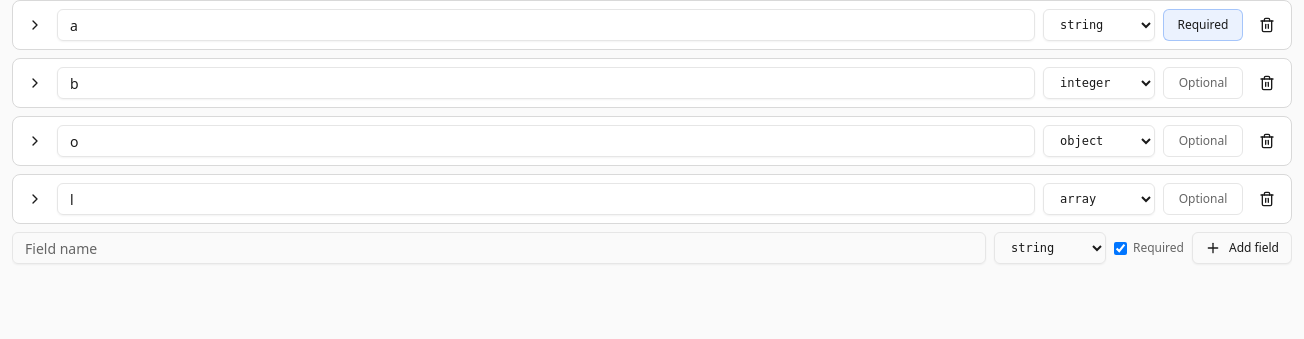
Test: SchemaEditor › add_field_adds_a_property_of_the_chosen_type
The image size is (1304, 339).
Type "d" into the field labelled "Field name".
click(499, 248); type("d")  # box [12,232,986,264]
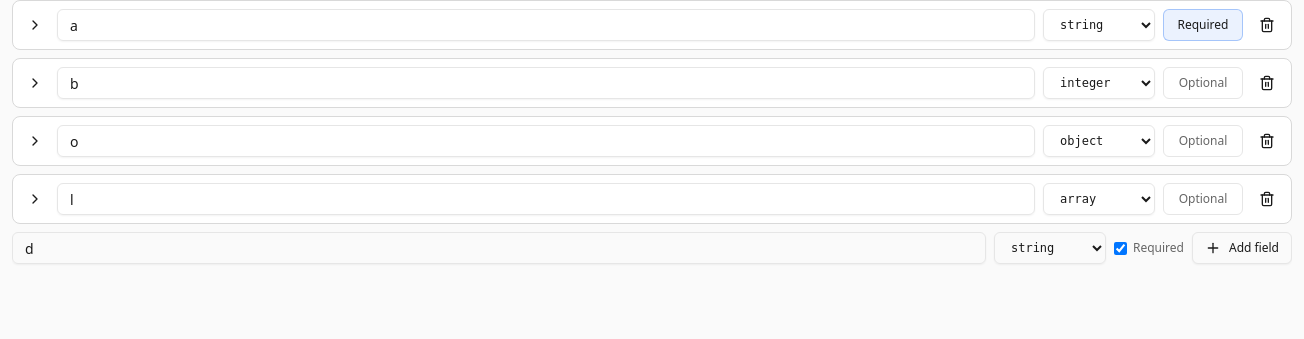
Select "number" in the dropdown named "Field type" at x=1050, y=248, box [994,232,1106,264]
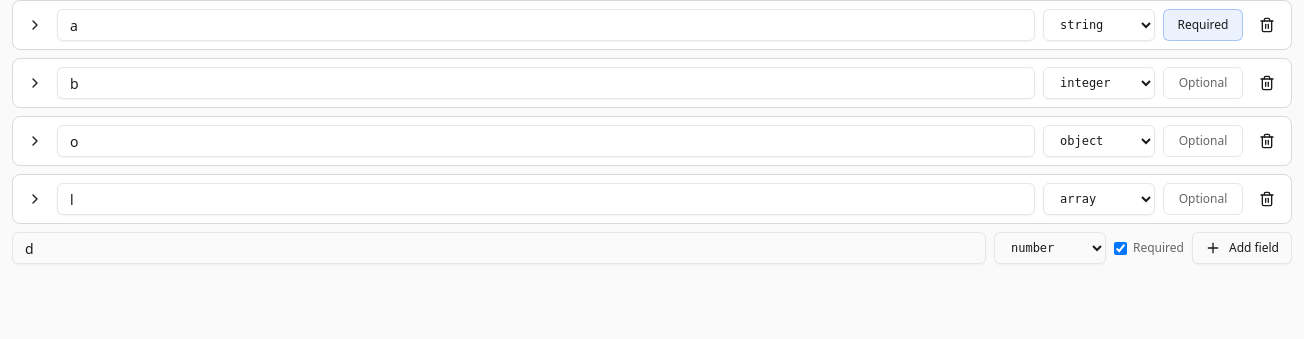
Click the button "Add field".
click(1242, 248)  # box [1192,232,1292,264]
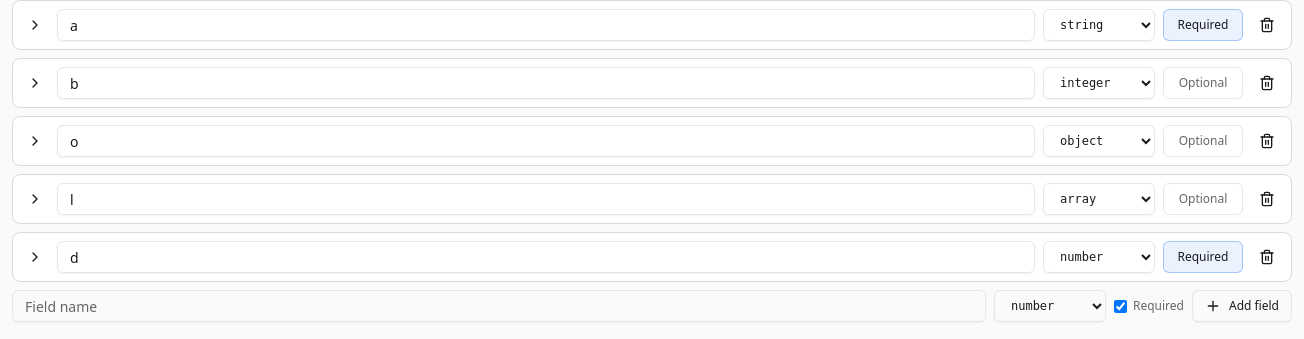
Expected: the field labelled "Field name" is empty, [12,290,986,322]
